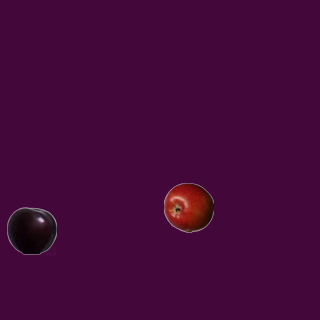Apple Braeburn: (163, 182, 213, 232)
Cherry Wax Black: (6, 205, 56, 255)
